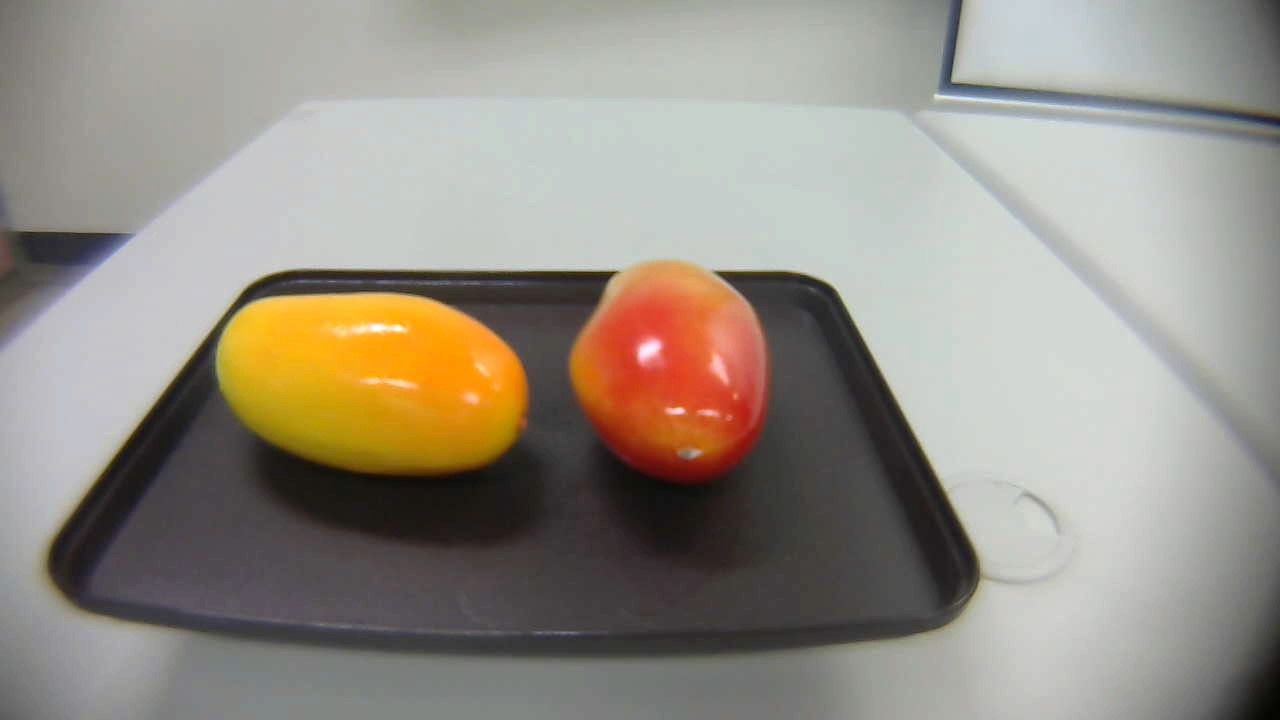red mango: (559, 255, 786, 493)
yellow mango: (210, 284, 531, 480)
